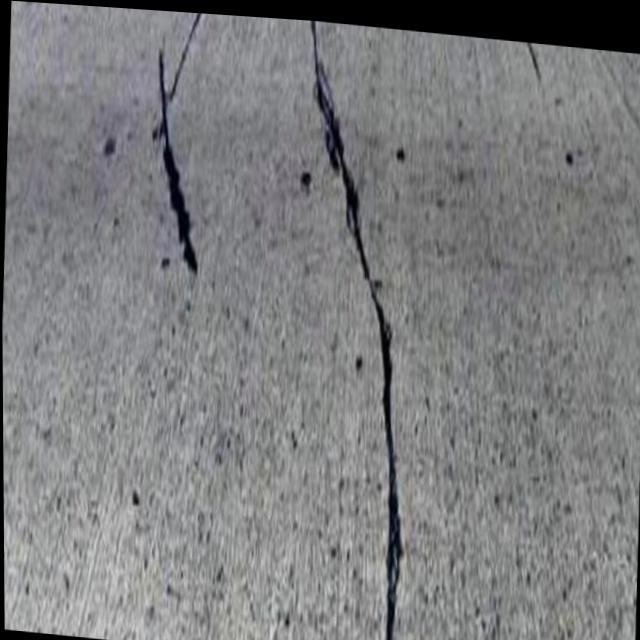Crack: (261, 15, 446, 640), (118, 6, 216, 278)
